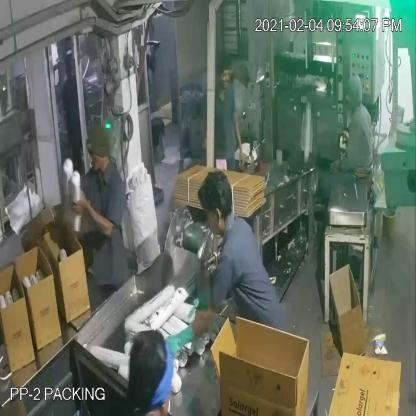glove: (154, 324, 202, 368)
no_glove: (73, 172, 117, 247), (230, 103, 246, 171)
